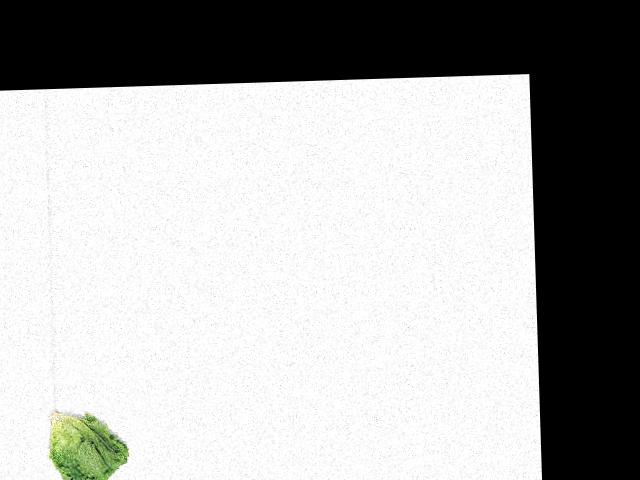lettuce: (41, 406, 137, 480)
